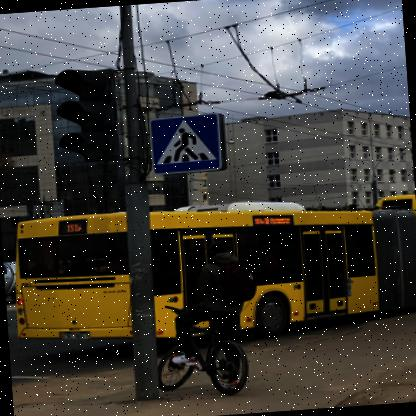crosswalk: (146, 110, 225, 175)
trafficlight: (50, 63, 121, 164)
